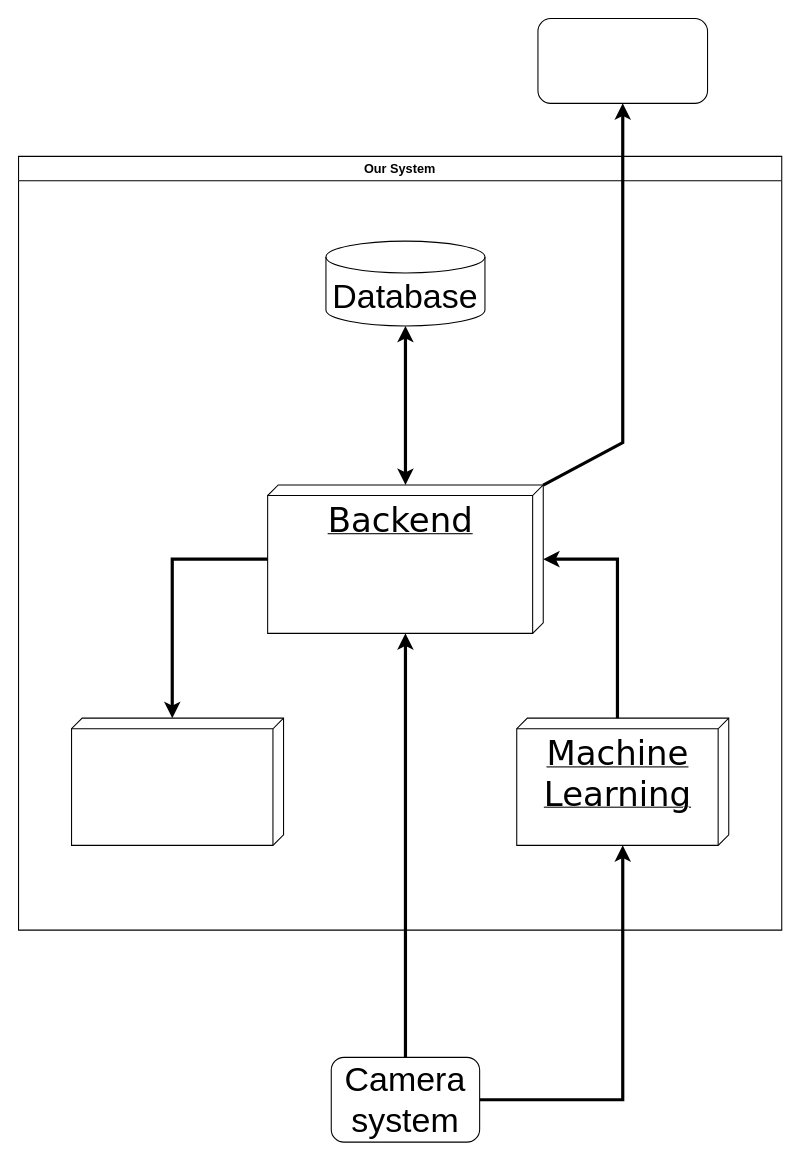
The diagram is 800 pixels wide and 1161 high, and some of its shapes have lost their labels. The centre of each missing label's shape, as x and y in pixels:
"Frontend" belongs at (x=177, y=781).
"Telegram Bot" belongs at (x=622, y=60).
